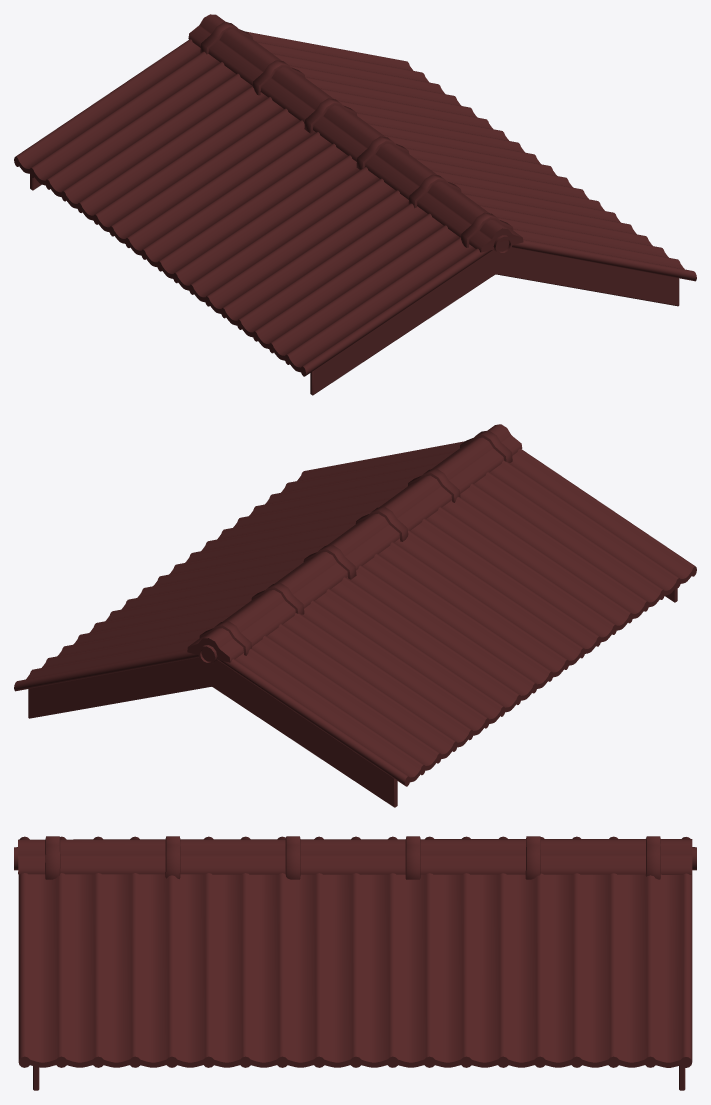
The model's file is roof2.glb.
The picture shows the model from 3 angles, top to bottom: view 1: azimuth 30°, elevation 25°; view 2: azimuth 150°, elevation 25°; view 3: azimuth 270°, elevation 25°; orthographic projection. The views are drawn at different scales.
Visible parts, largest first — view 1: low219, low149, low137; view 2: low219, low149, low137; view 3: low219, low149, low9011, low9010, low136, low9009, low9012, low9013.
Part boxes in pixels (x1,y1,x2,y2): low219: [14, 31, 696, 376]; low149: [188, 14, 523, 252]; low137: [30, 175, 679, 395]; low219: [14, 441, 696, 786]; low149: [187, 424, 522, 662]; low137: [28, 588, 677, 807]; low219: [18, 836, 692, 1067]; low149: [18, 839, 692, 874]; low9011: [405, 836, 420, 879]; low9010: [285, 836, 300, 879]; low136: [45, 836, 60, 879]; low9009: [165, 836, 180, 879]; low9012: [525, 836, 540, 879]; low9013: [645, 836, 660, 879].
Bounding box in the file's own units: 29.17 × 9.29 × 38.26.
